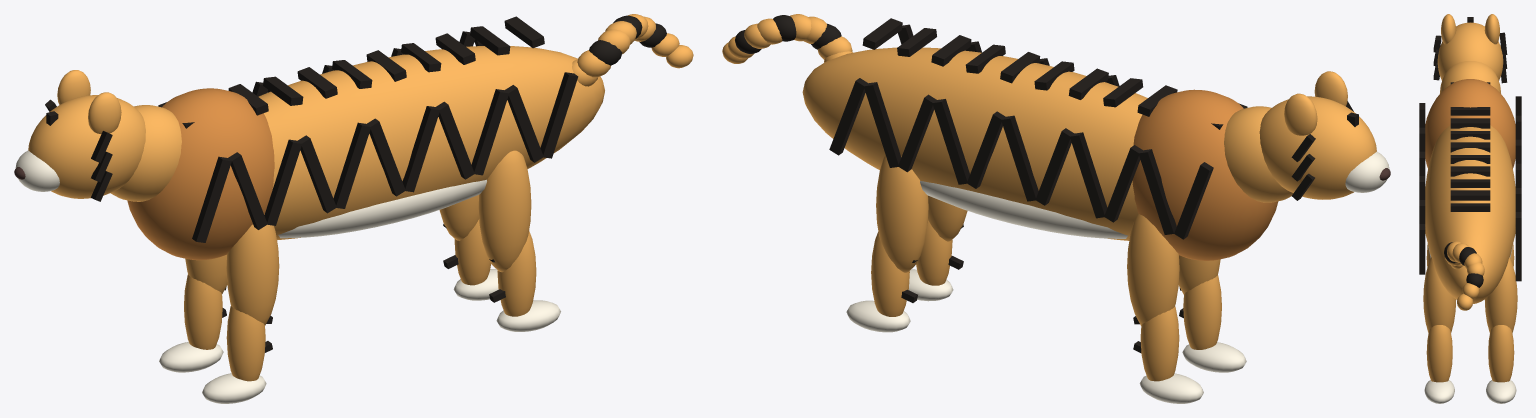
Rendered from tiger.glb.
3 renders of one model, left to right at view 1: azimuth 30°, elevation 25°; view 2: azimuth 150°, elevation 25°; view 3: azimuth 270°, elevation 25°, orthographic. The views are drawn at different scales.
Visible parts, largest first — view 1: long visible tiger body, deep chest, head with muzzle, leg upper 3, leg upper 1, white belly, neck, leg lower 0, leg lower 1, leg lower 3, leg lower 2, white paw 0 (+24 smaller); view 2: long visible tiger body, deep chest, head with muzzle, leg upper 2, leg upper 0, white belly, neck, leg lower 0, leg lower 1, leg lower 2, leg lower 3, white paw 1 (+24 smaller); view 3: long visible tiger body, deep chest, head with muzzle, leg upper 3, leg upper 2, leg lower 2, leg lower 3, neck, white paw 2, white paw 3, left body stripe 10, back stripe 9 (+31 smaller).
Part boxes in pixels (left/top/right/bottom): long visible tiger body: left=258, top=46, right=604, bottom=240; deep chest: left=127, top=88, right=274, bottom=260; head with muzzle: left=28, top=95, right=145, bottom=198; leg upper 3: left=478, top=150, right=531, bottom=272; leg upper 1: left=226, top=214, right=279, bottom=325; white belly: left=278, top=179, right=486, bottom=238; neck: left=110, top=105, right=181, bottom=201; leg lower 0: left=184, top=274, right=222, bottom=349; leg lower 1: left=226, top=306, right=265, bottom=381; leg lower 3: left=497, top=230, right=536, bottom=316; leg lower 2: left=454, top=219, right=491, bottom=285; white paw 0: left=159, top=342, right=223, bottom=372; long visible tiger body: left=802, top=47, right=1147, bottom=240; deep chest: left=1132, top=89, right=1278, bottom=260; head with muzzle: left=1259, top=96, right=1376, bottom=199; leg upper 2: left=876, top=155, right=928, bottom=272; leg upper 0: left=1127, top=214, right=1179, bottom=325; white belly: left=920, top=181, right=1128, bottom=238; neck: left=1224, top=106, right=1293, bottom=202; leg lower 0: left=1140, top=306, right=1179, bottom=381; leg lower 1: left=1183, top=275, right=1221, bottom=349; leg lower 2: left=871, top=232, right=909, bottom=316; leg lower 3: left=916, top=220, right=952, bottom=285; white paw 1: left=1182, top=342, right=1246, bottom=372; long visible tiger body: left=1425, top=125, right=1515, bottom=303; deep chest: left=1425, top=79, right=1515, bottom=168; head with muzzle: left=1437, top=22, right=1503, bottom=80; leg upper 3: left=1423, top=257, right=1456, bottom=333; leg upper 2: left=1484, top=257, right=1517, bottom=333; leg lower 2: left=1488, top=325, right=1514, bottom=382; leg lower 3: left=1426, top=325, right=1452, bottom=382; neck: left=1440, top=61, right=1500, bottom=93; white paw 2: left=1486, top=380, right=1516, bottom=403; white paw 3: left=1424, top=380, right=1454, bottom=403; left body stripe 10: left=1515, top=217, right=1521, bottom=281; back stripe 9: left=1450, top=190, right=1490, bottom=200.
Size of the model in its own units: 5.07 by 2.39 by 0.935.
